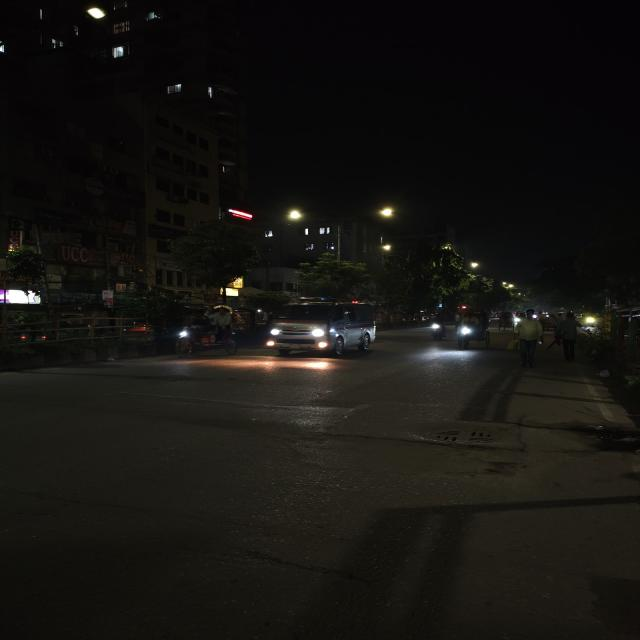car: (262, 299, 382, 359)
motorcycle: (427, 312, 449, 342)
pedestrian: (510, 309, 546, 367), (553, 311, 584, 361)
rickshaw: (170, 304, 244, 360), (452, 308, 494, 349), (496, 309, 515, 331)
